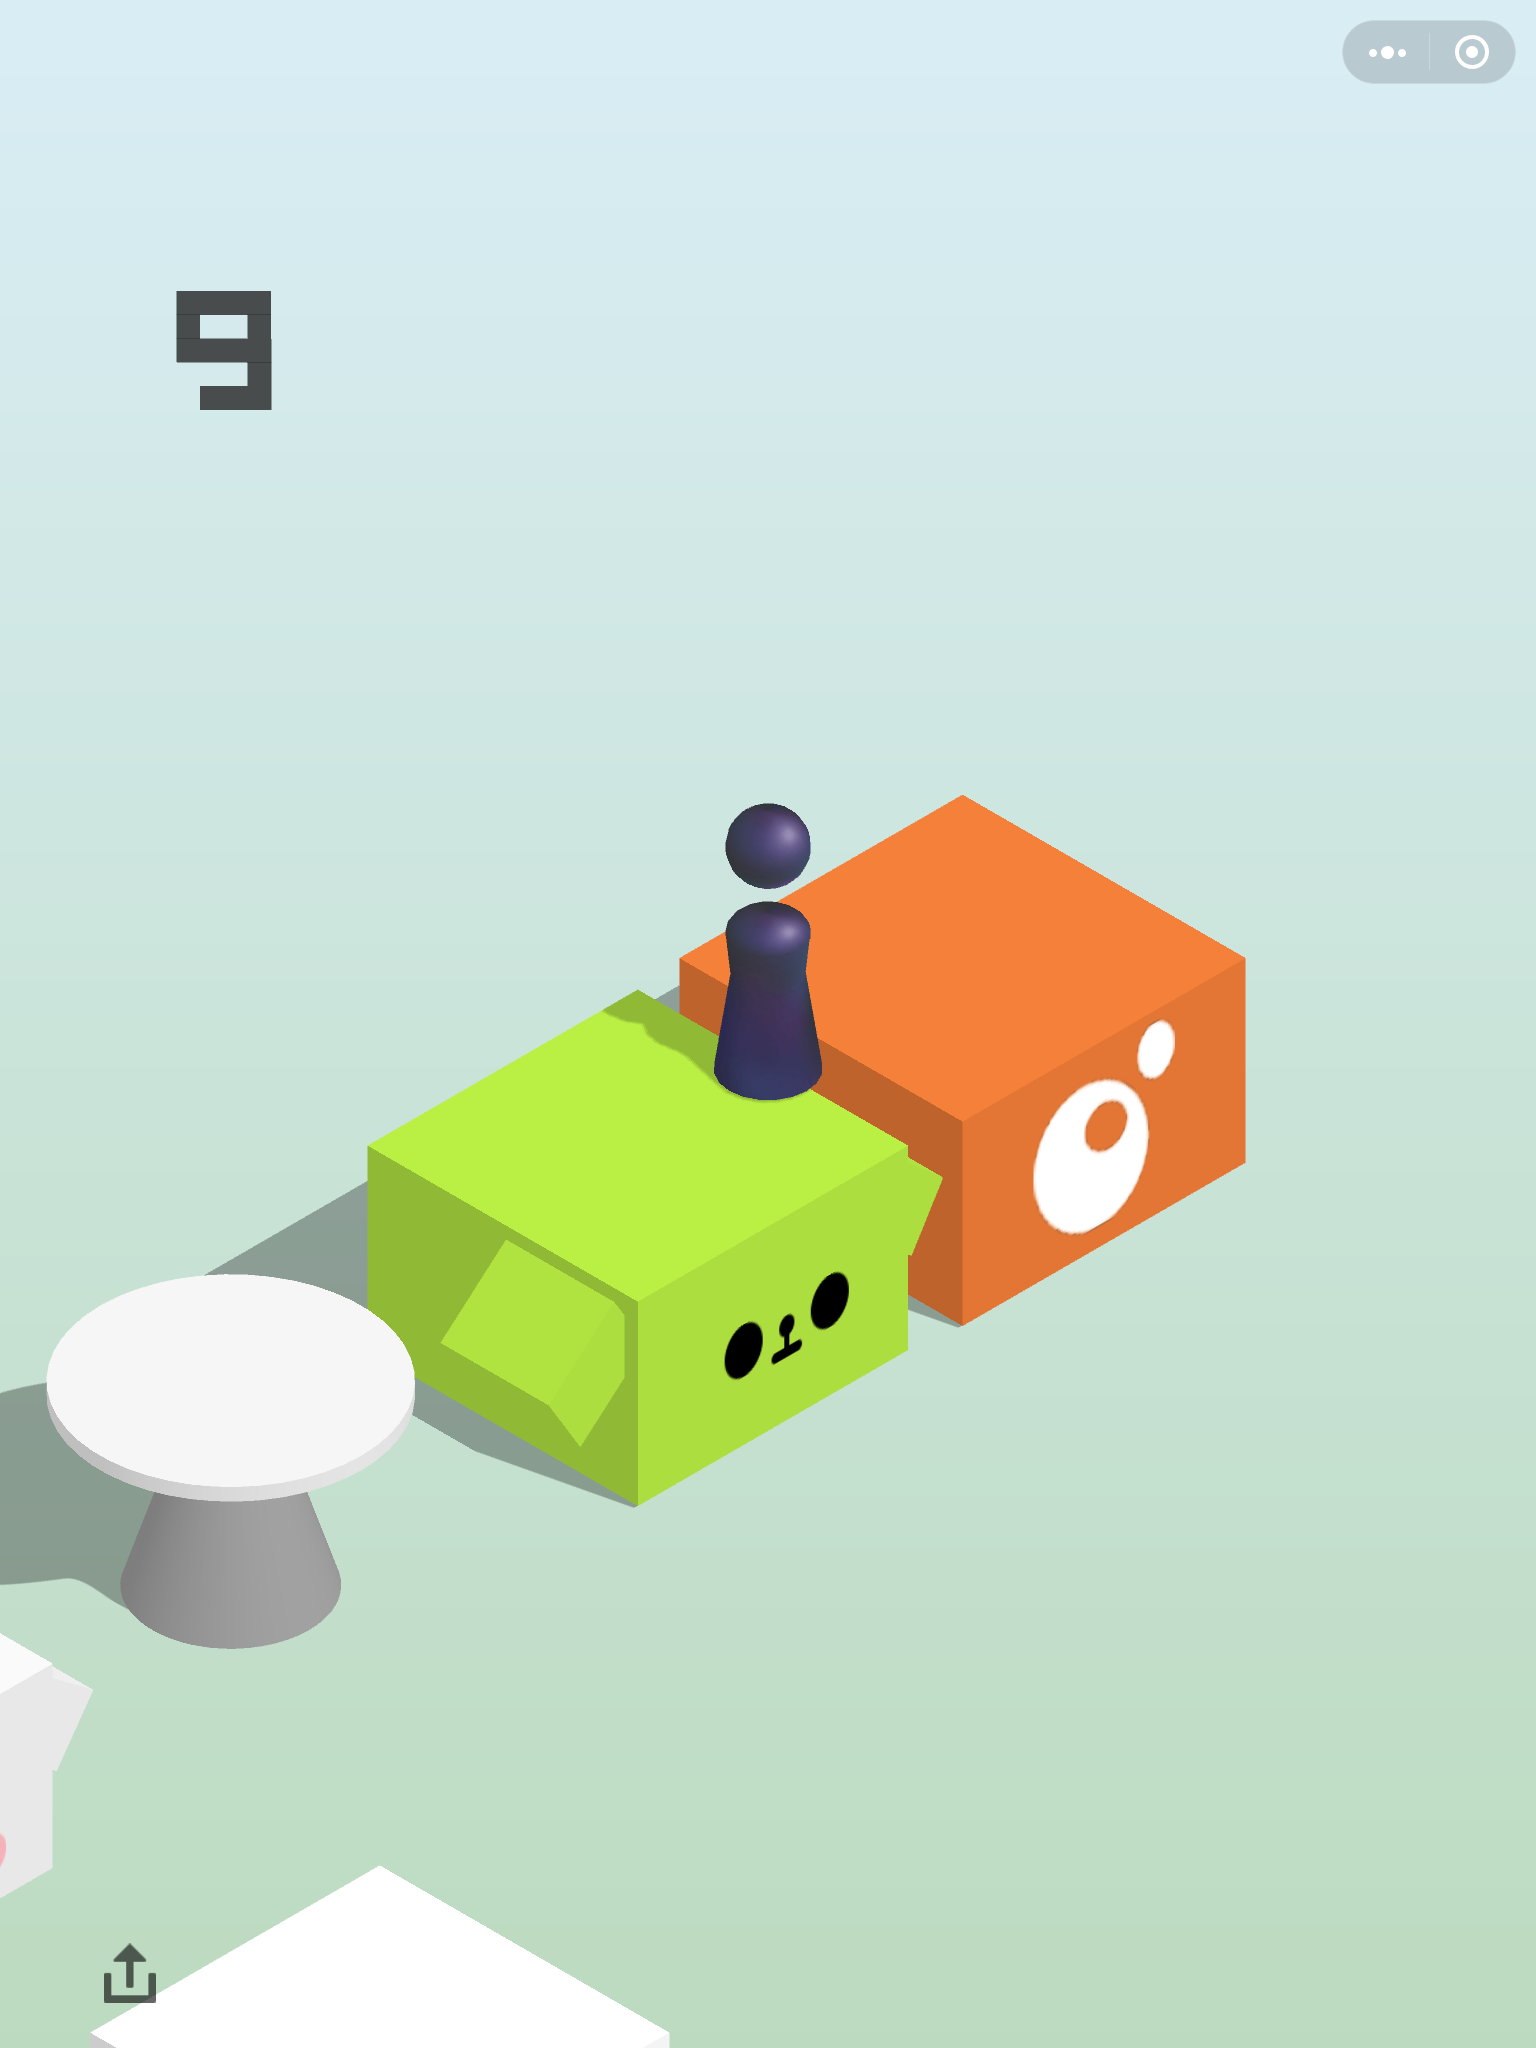c: (44, 1266, 423, 1656)
f: (670, 787, 1250, 1329), (361, 980, 945, 1513), (87, 1859, 678, 2048)
r: (707, 795, 828, 1103)
